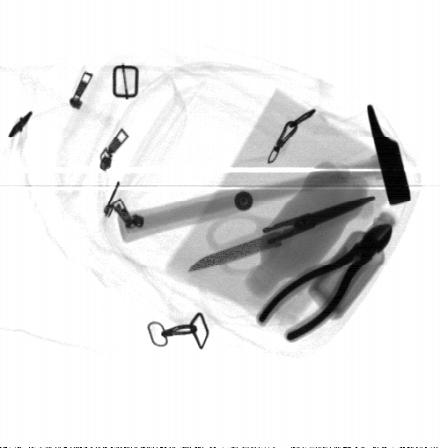Hammer: (118, 102, 413, 244)
Knife: (186, 202, 376, 272)
Pliers: (254, 222, 393, 344)
Scissors: (207, 197, 376, 275)
